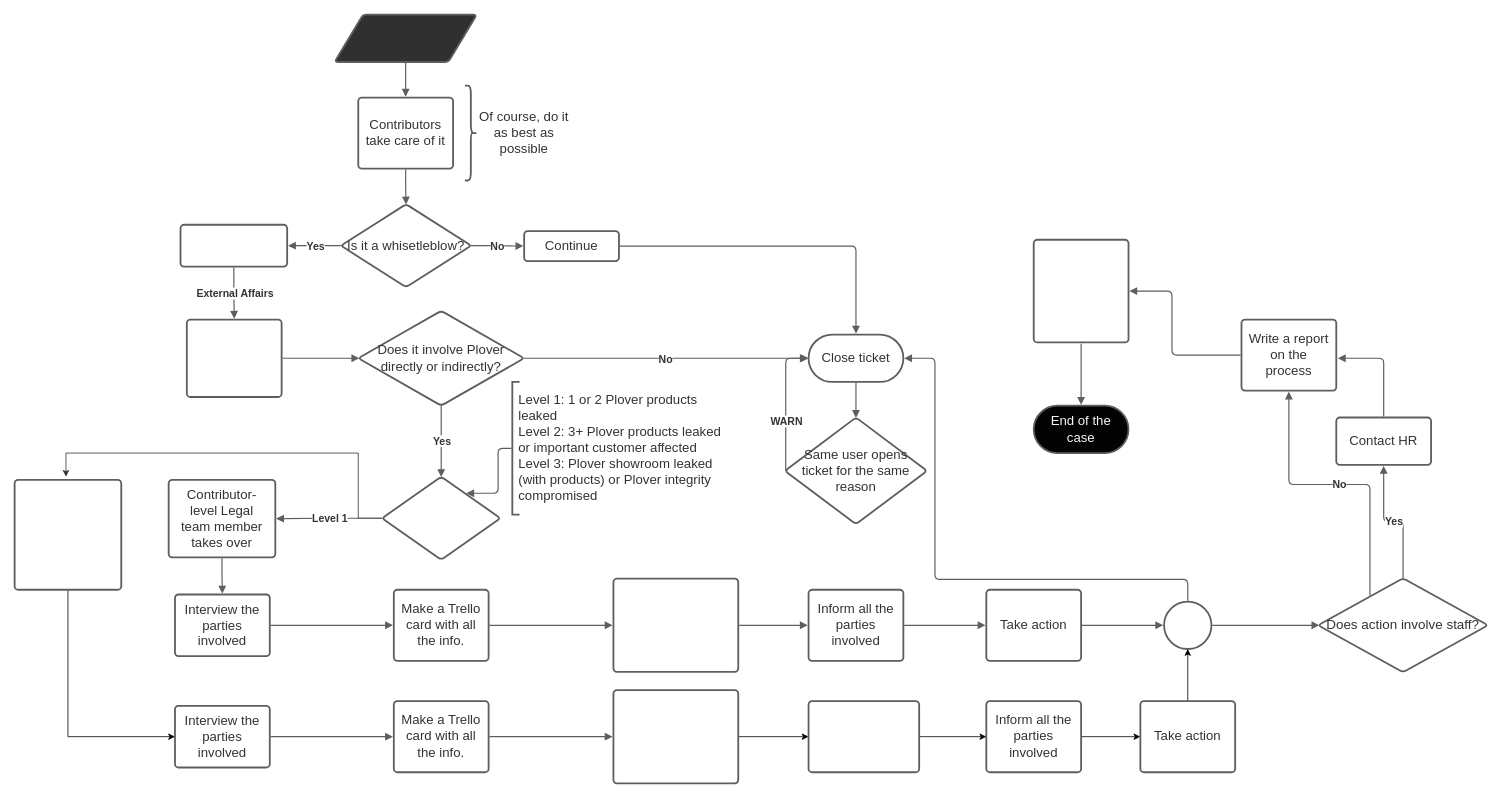
The diagram is 1503 pixels wide and 798 high, and some of its shapes have lost their labels. Each missing label, with the centre of its shape:
"Alert the proper department" goes at (x=233, y=245).
"AND" goes at (x=1187, y=625).
"Consider options, meet with other Legal team members and GM/EM (Legal)." goes at (x=675, y=736).
"Consider options, meet with other Legal team members." goes at (x=675, y=624).
"Contributor-level Legal team member takes over with GM/EM supervision" goes at (x=67, y=534).
"Determine severity" goes at (x=441, y=518).
"EA team/legal team take over ticket" goes at (x=234, y=358).
"Submit to GM (Legal) or EM (Legal) for distribution (if required)" goes at (x=1080, y=291).
"Ticket is opened" goes at (x=405, y=38).
"Vote on the outcome with Legal + GM/EM (Legal)" goes at (x=863, y=736).
